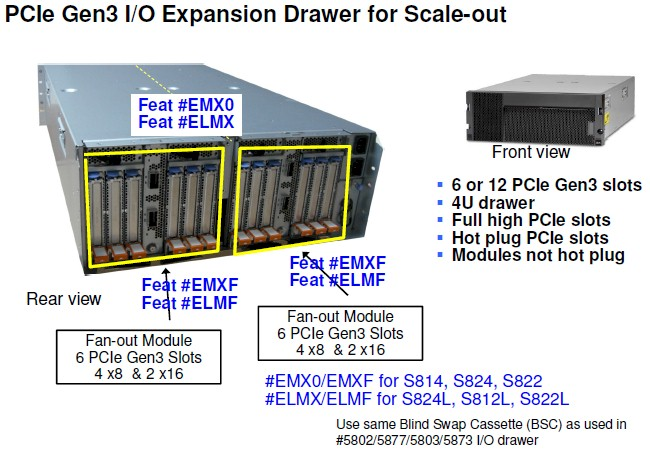ibm-server: (455, 69, 637, 144)
